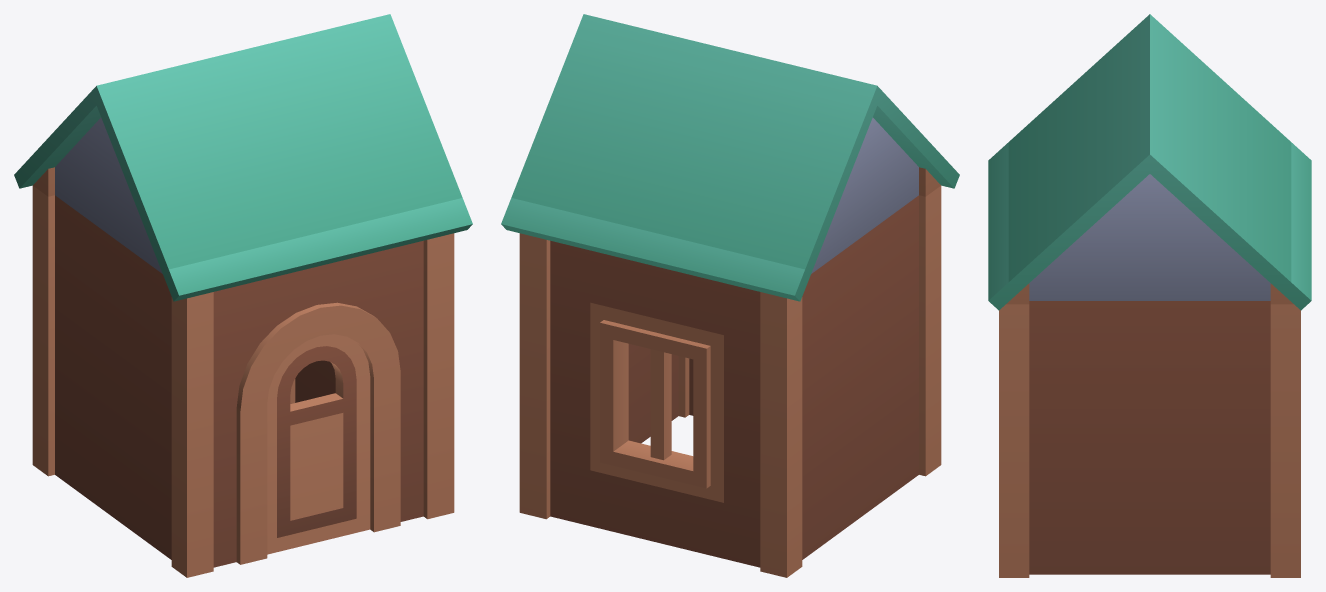
The model's file is cottage.glb.
3 views of the same model, side by side, from view 1: azimuth 30°, elevation 25°; view 2: azimuth 150°, elevation 25°; view 3: azimuth 270°, elevation 25° (orthographic). The views are drawn at different scales.
Visible parts, largest first — view 1: cottage.001; view 2: cottage.001; view 3: cottage.001.
Part boxes in pixels (x1,y1,x2,y2): cottage.001: (14, 14, 472, 577); cottage.001: (501, 14, 959, 577); cottage.001: (988, 14, 1311, 577).
Bounding box in the file's own units: 1.1 × 1.57 × 1.07.
5 materials, 5 textured.
